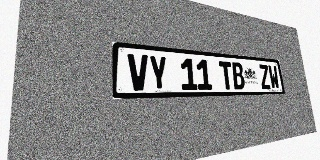1: (180, 58, 198, 90), (195, 59, 212, 90)
B: (231, 62, 245, 89)
T: (219, 61, 234, 90)
V: (127, 53, 149, 91)
W: (268, 65, 280, 89)
Y: (148, 55, 168, 90)
Z: (258, 64, 271, 89)
